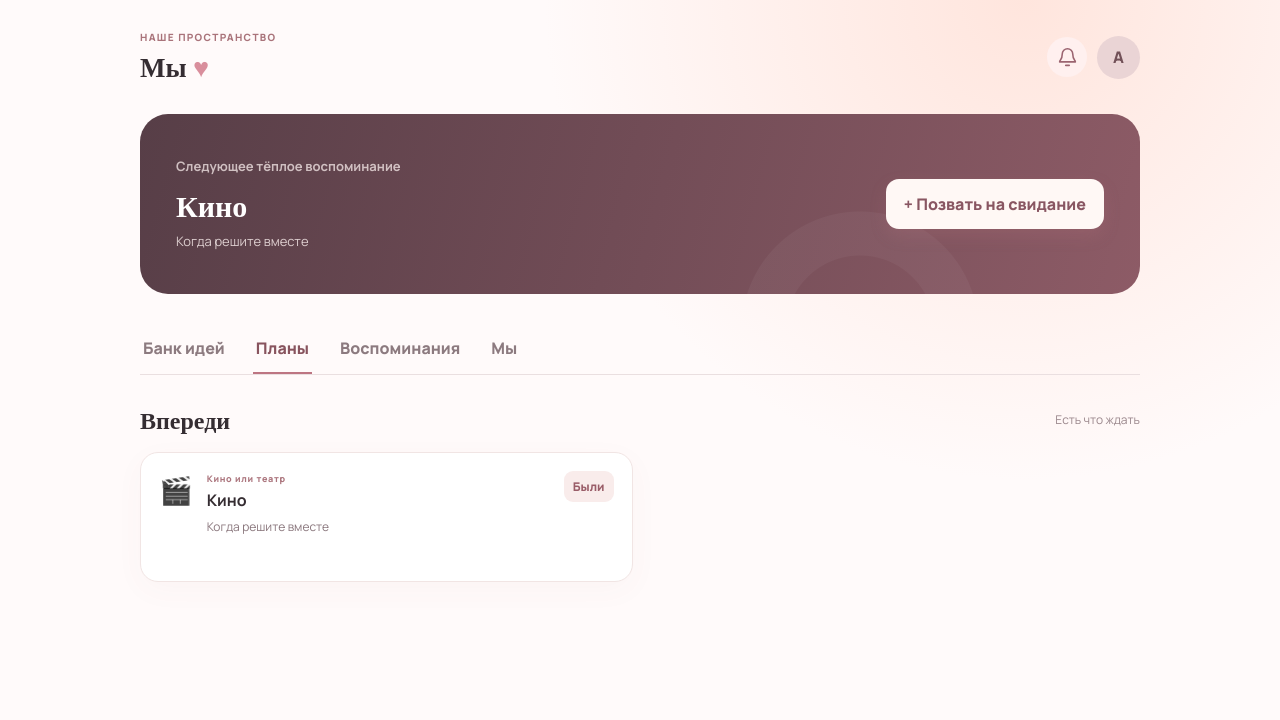
Test: date details › lets only the creator move a plan to the idea bank and switches tabs
This screenshot has width=1280, height=720.
Click the button with aria-label "Открыть детали: Кино": coordinates (246, 478) 207,471 -> 550,542
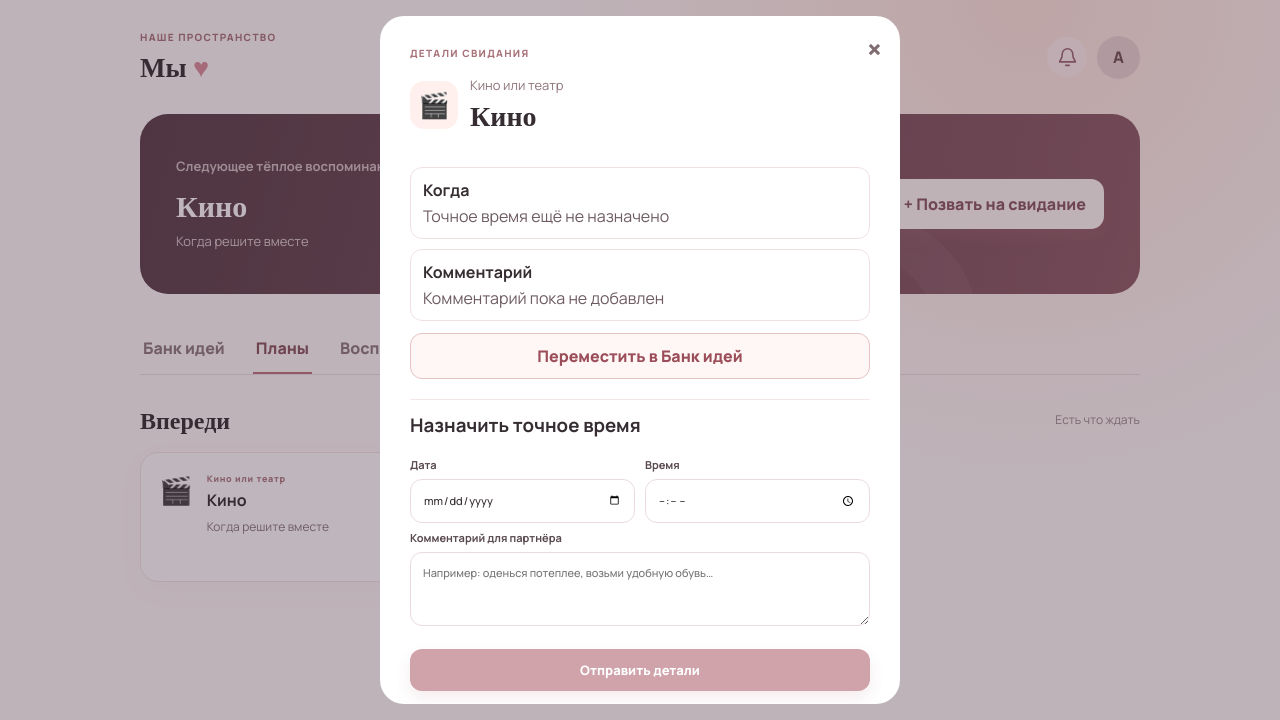
Click the button "Переместить в Банк идей": coordinates (640, 356) 410,333 -> 870,379
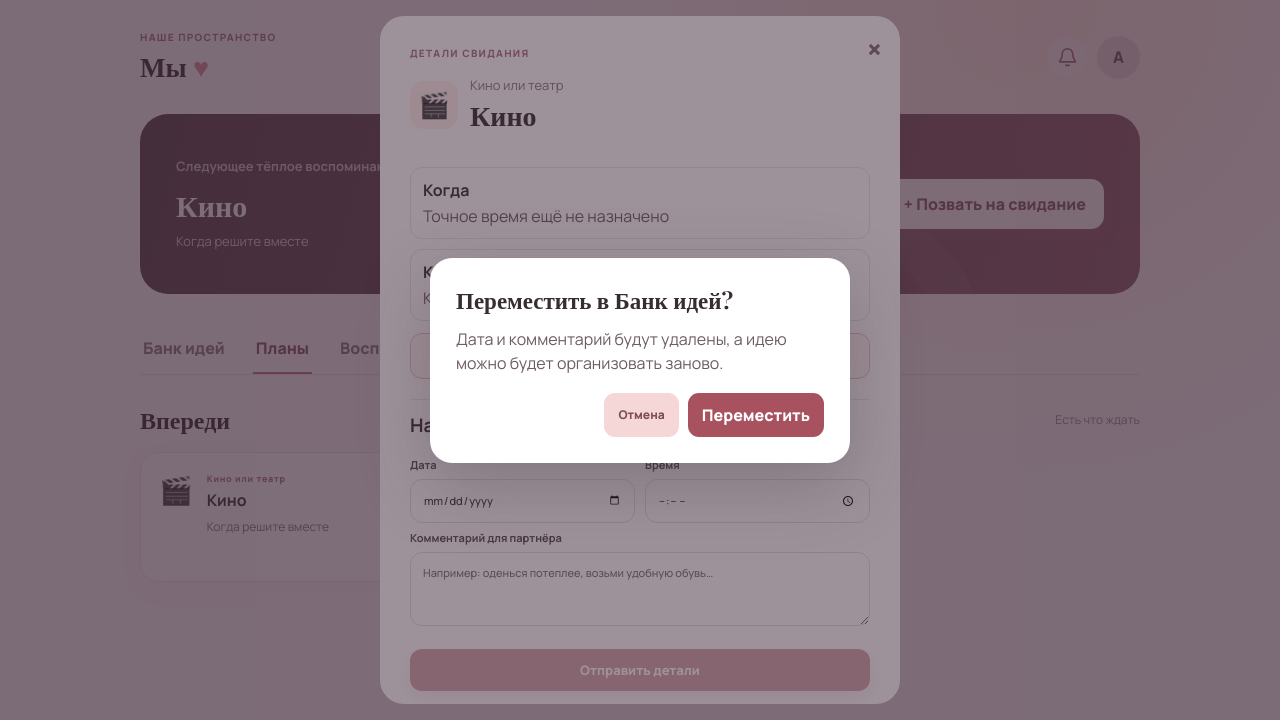
Click the element with class "confirm-backdrop": coordinates (77, 360) 0,0 -> 1279,719
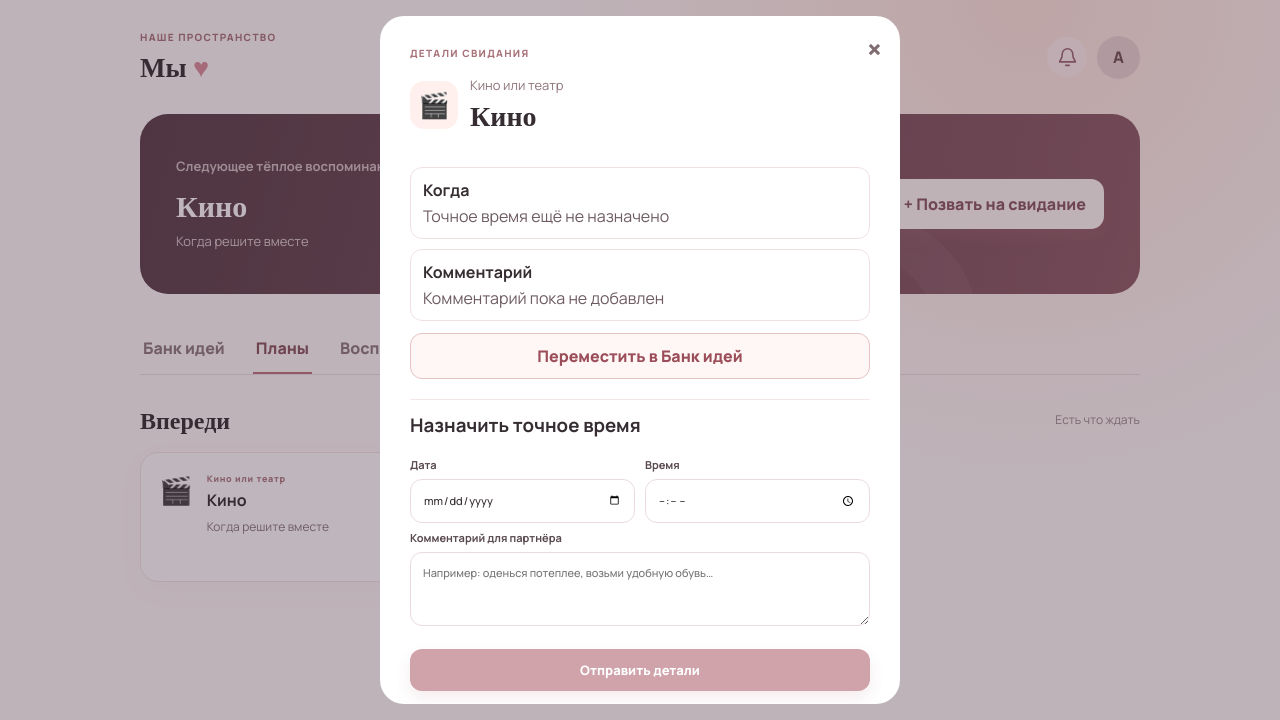
Expected: the dialog "Переместить в Банк идей?" is not shown
Now the dialog "ДЕТАЛИ СВИДАНИЯ" is shown, box 380,16 -> 900,704
Click the button "Переместить в Банк идей": coordinates (640, 356) 410,333 -> 870,379
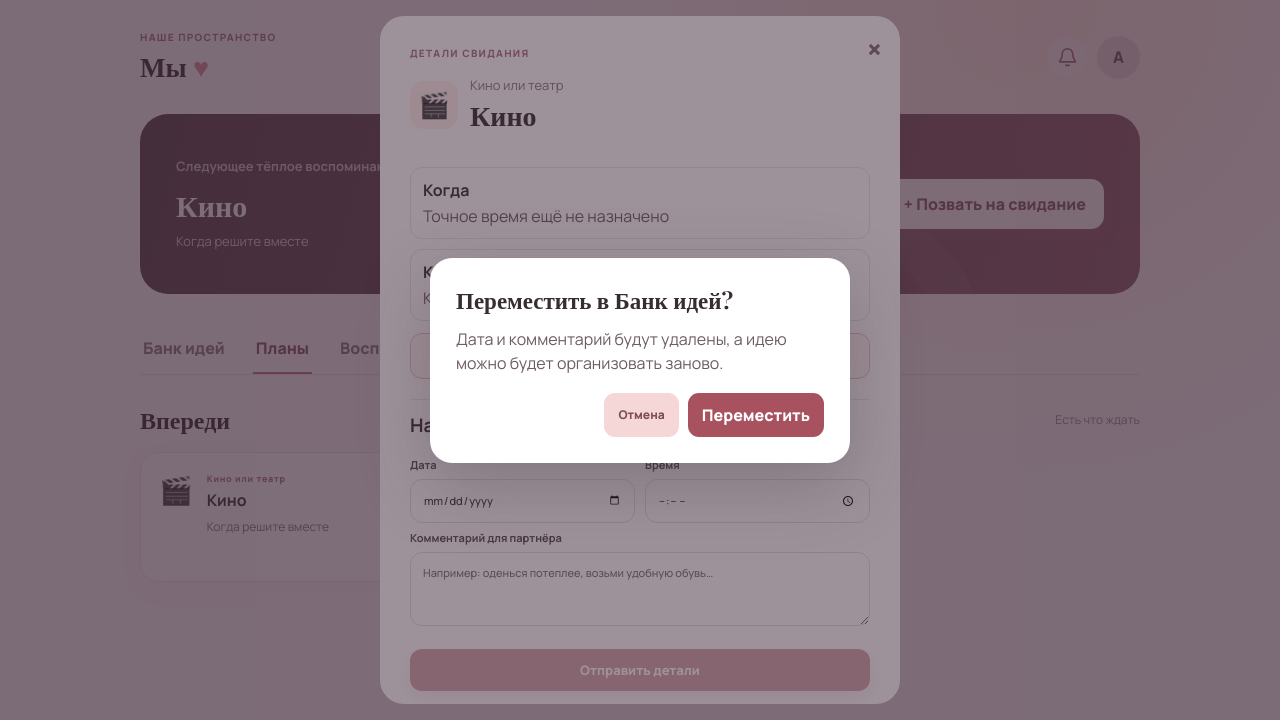
Click the button "Переместить": coordinates (756, 414) 688,392 -> 824,436
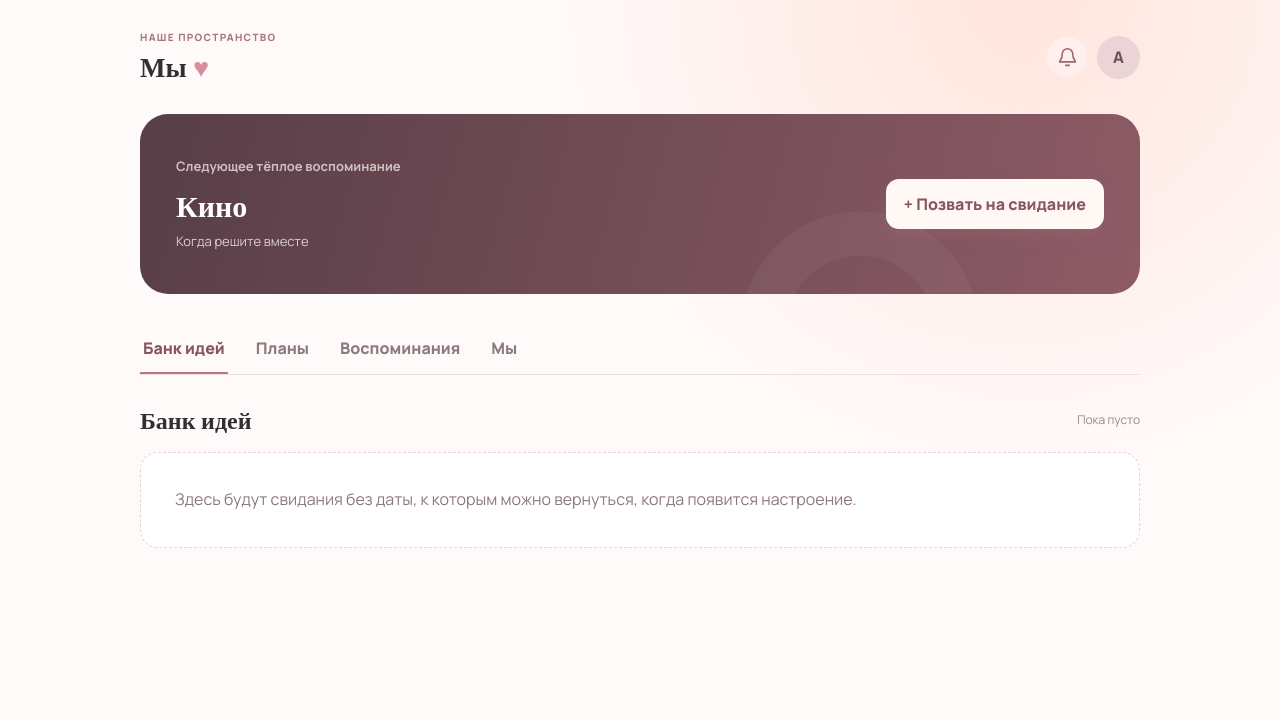
Now the text "ДЕТАЛИ СВИДАНИЯ" is gone
